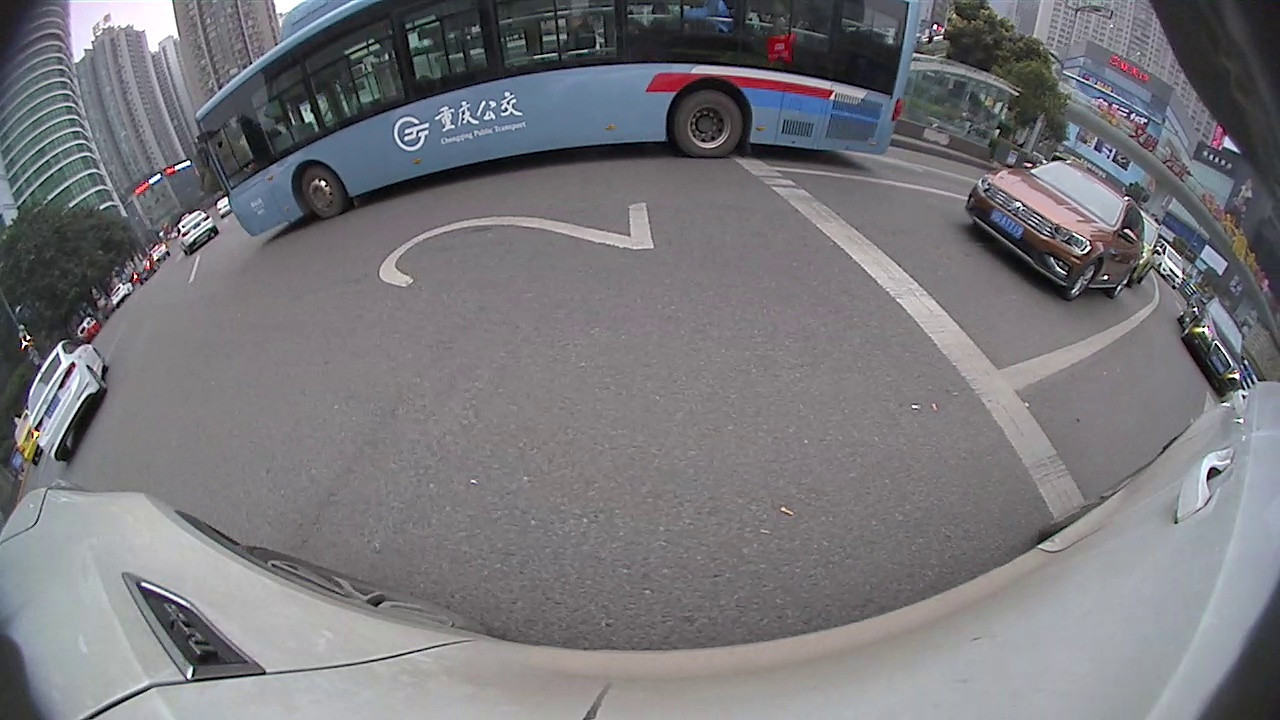bus: (189, 1, 938, 238)
car: (964, 160, 1147, 303), (25, 338, 108, 465), (1178, 296, 1245, 397), (1125, 207, 1161, 291), (174, 210, 218, 255), (1151, 241, 1186, 293), (13, 411, 42, 467)
front: (297, 166, 346, 220), (1060, 258, 1100, 301)
rear: (672, 90, 745, 159), (1107, 267, 1139, 300), (83, 363, 111, 394)
